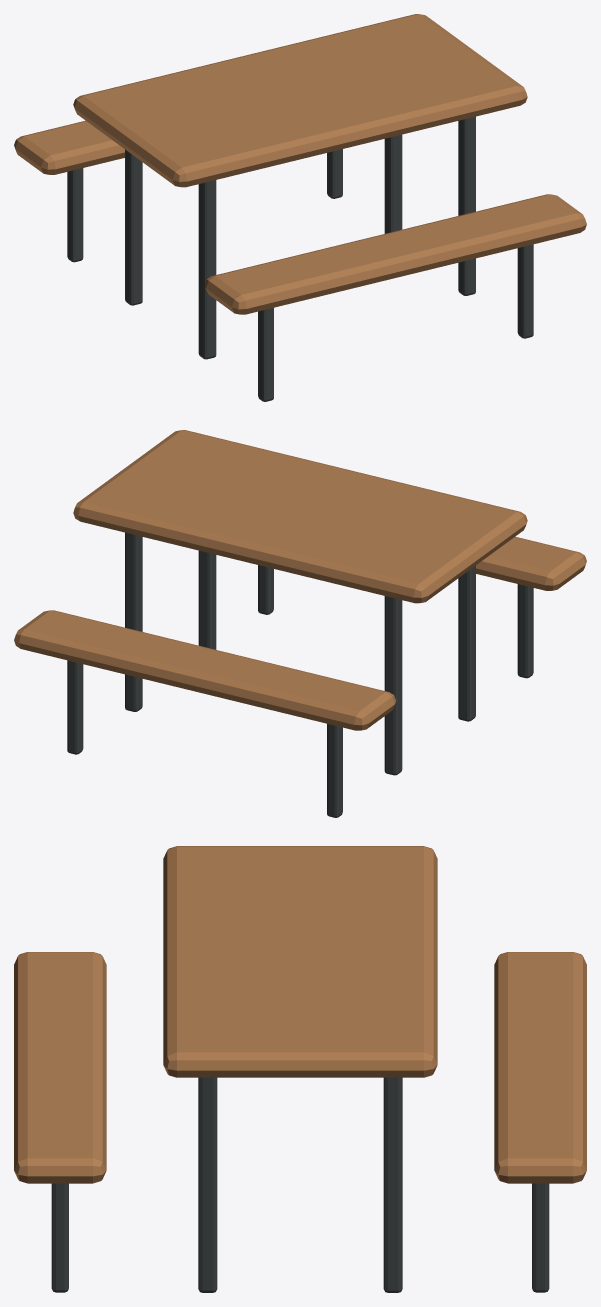
The model's file is picnic-table.glb.
The picture shows the model from 3 angles, top to bottom: view 1: azimuth 30°, elevation 25°; view 2: azimuth 150°, elevation 25°; view 3: azimuth 270°, elevation 25°; orthographic projection. The views are drawn at different scales.
Parts seen in each view (by area): view 1: table_top, table_bench, table_bench.001, table_leg, table_leg.001, table_leg.002, table_leg.003, bench_leg.002, bench_leg.001, bench_leg, bench_leg.003; view 2: table_top, table_bench.001, table_bench, table_leg.001, table_leg, table_leg.003, table_leg.002, bench_leg, bench_leg.003, bench_leg.002, bench_leg.001; view 3: table_top, table_bench, table_bench.001, table_leg.002, table_leg.003, bench_leg.001, bench_leg.003.
Boxes of the visible parts, x1,y1,x2,y2 form: table_top: (73, 14, 527, 187); table_bench: (205, 194, 586, 314); table_bench.001: (14, 120, 124, 174); table_leg: (198, 180, 216, 359); table_leg.001: (125, 149, 142, 305); table_leg.002: (458, 116, 475, 295); table_leg.003: (384, 134, 402, 233); bench_leg.002: (67, 168, 83, 262); bench_leg.001: (517, 244, 533, 338); bench_leg: (258, 308, 273, 401); bench_leg.003: (327, 149, 342, 198); table_top: (73, 430, 527, 603); table_bench.001: (14, 610, 395, 730); table_bench: (476, 536, 586, 590); table_leg.001: (384, 596, 402, 775); table_leg: (458, 565, 475, 721); table_leg.003: (125, 532, 142, 711); table_leg.002: (198, 550, 216, 649); bench_leg: (517, 584, 533, 678); bench_leg.003: (67, 660, 83, 754); bench_leg.002: (327, 724, 342, 817); bench_leg.001: (258, 565, 273, 614); table_top: (163, 846, 437, 1077); table_bench: (14, 952, 106, 1183); table_bench.001: (494, 952, 586, 1183); table_leg.002: (198, 1077, 217, 1292); table_leg.003: (383, 1077, 402, 1292); bench_leg.001: (51, 1183, 68, 1292); bench_leg.003: (532, 1183, 549, 1292).
Size of the model in its own units: 1.5 by 0.84 by 1.67.
